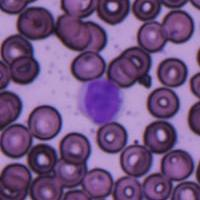L: (76, 76, 125, 125)
